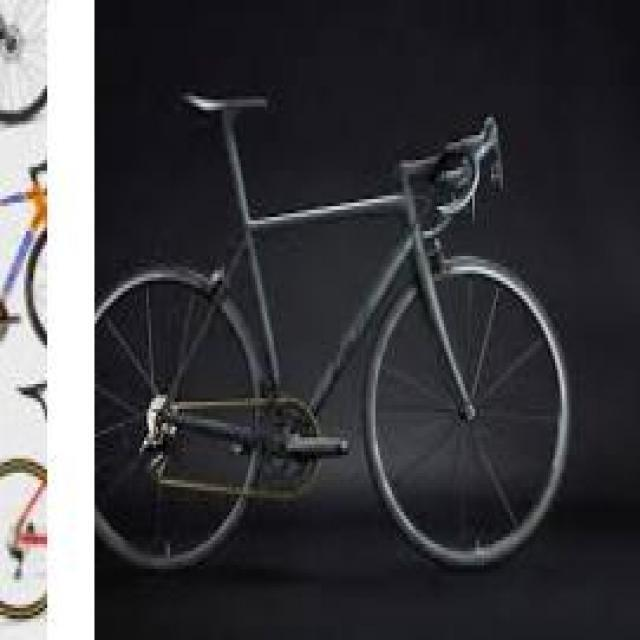bicycle: (103, 72, 571, 595), (1, 165, 48, 346)
